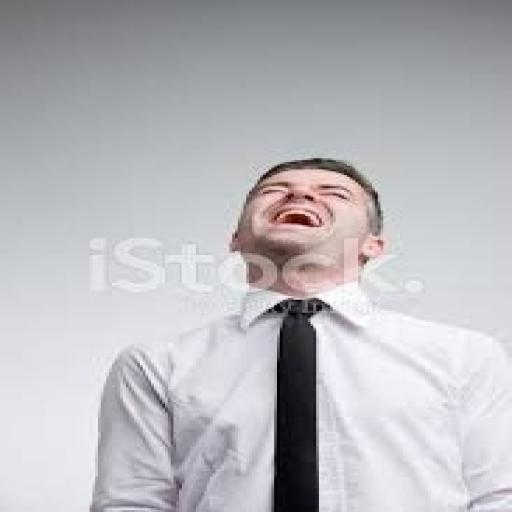laughing: (78, 149, 510, 510)
